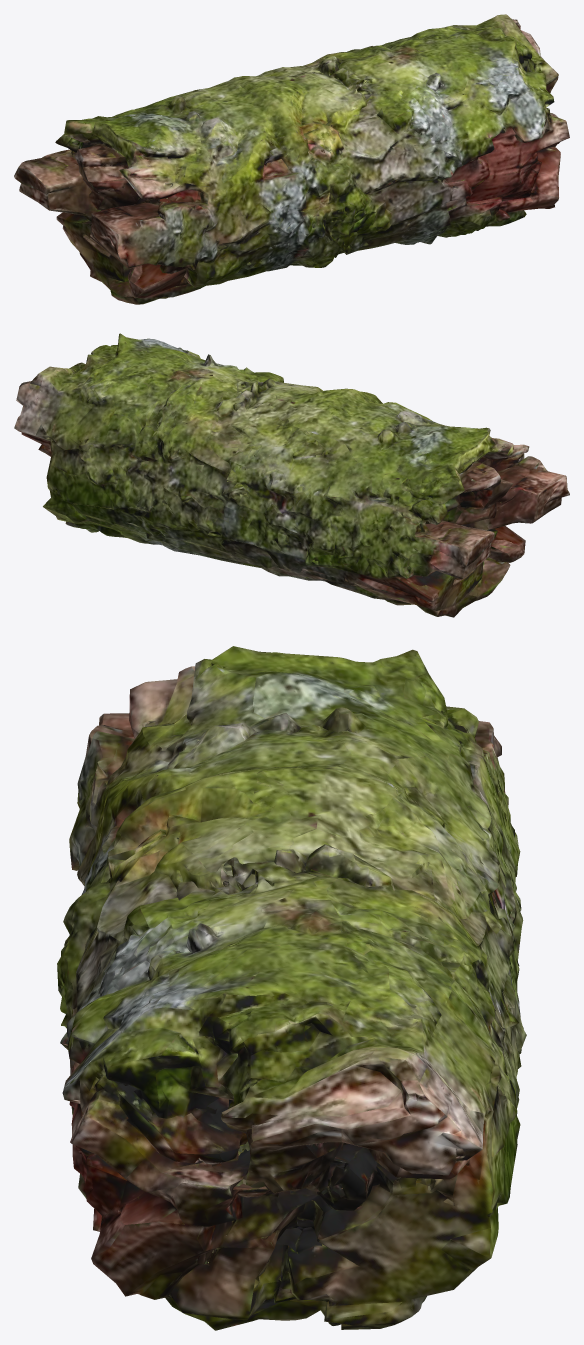
Rendered from mossy-fallen-log-01-web.glb.
3 renders of one model, top to bottom at view 1: azimuth 30°, elevation 25°; view 2: azimuth 150°, elevation 25°; view 3: azimuth 270°, elevation 25°, orthographic. The views are drawn at different scales.
Visible parts, largest first — view 1: geometry_0; view 2: geometry_0; view 3: geometry_0.
Boxes of the visible parts, x1,y1,x2,y2 form: geometry_0: (14,14,569,304); geometry_0: (14,333,569,617); geometry_0: (57,646,526,1330).
Size of the model in its own units: 0.8476 by 0.293 by 0.3652.
Materials: 1 (1 with a texture image).
